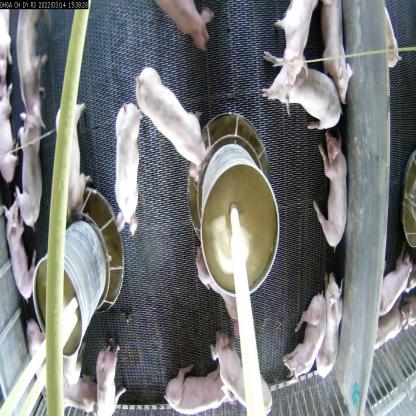Pig: (132, 68, 206, 180), (105, 102, 152, 236), (13, 117, 60, 243), (220, 332, 283, 416), (151, 363, 247, 416), (52, 94, 90, 221), (281, 294, 333, 385), (316, 138, 353, 265), (278, 53, 332, 139), (324, 280, 354, 368), (2, 199, 26, 288), (93, 348, 123, 415)
